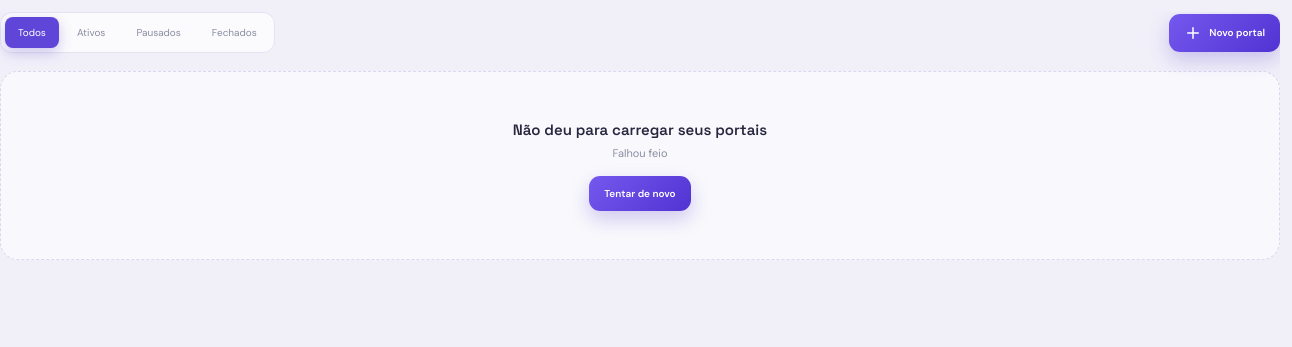
Test: PortalsSection › erro da API tem botão de tentar de novo que recarrega
Expected: the message shows "Falhou feio", [612,146,668,160]
Click the button "Tentar de novo".
click(640, 193)  # box [589,176,691,210]
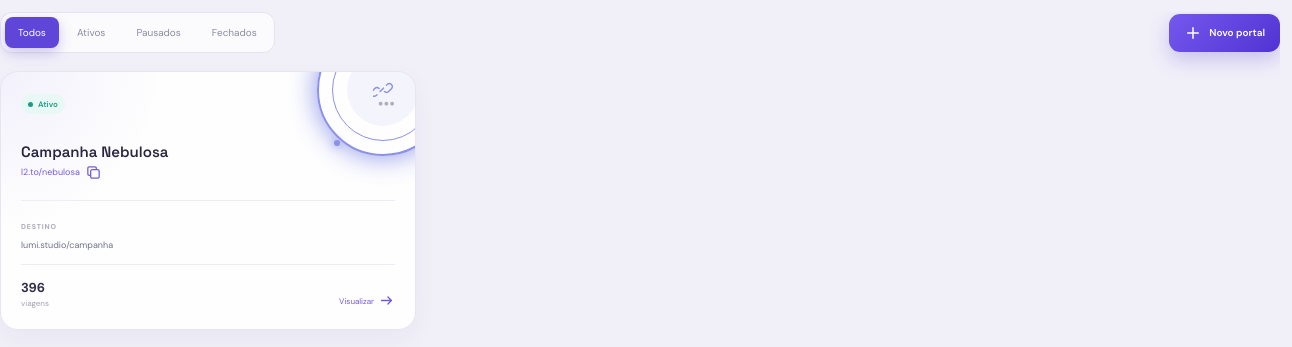
Expected: the heading "Campanha Nebulosa" is shown, [21,142,168,161]
